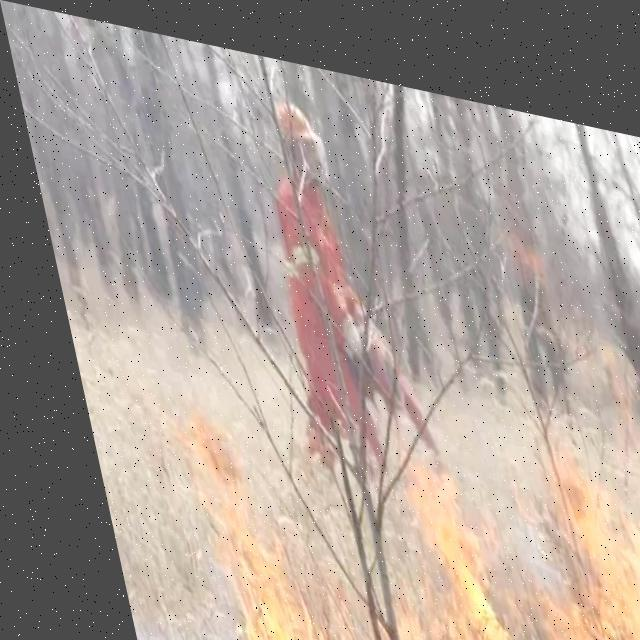Fire: (162, 403, 639, 639)
